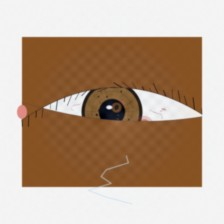foreign_body_visible: (128, 112, 161, 138)
